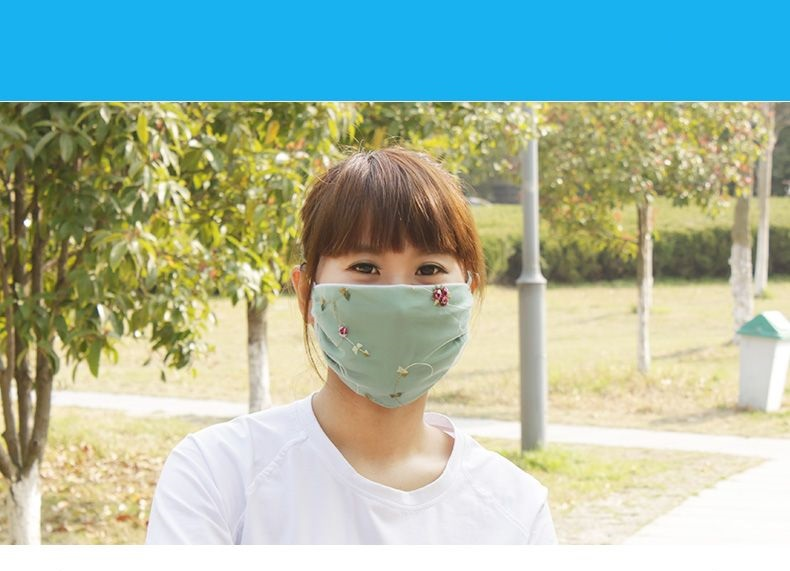face_mask: (313, 212, 466, 408)
